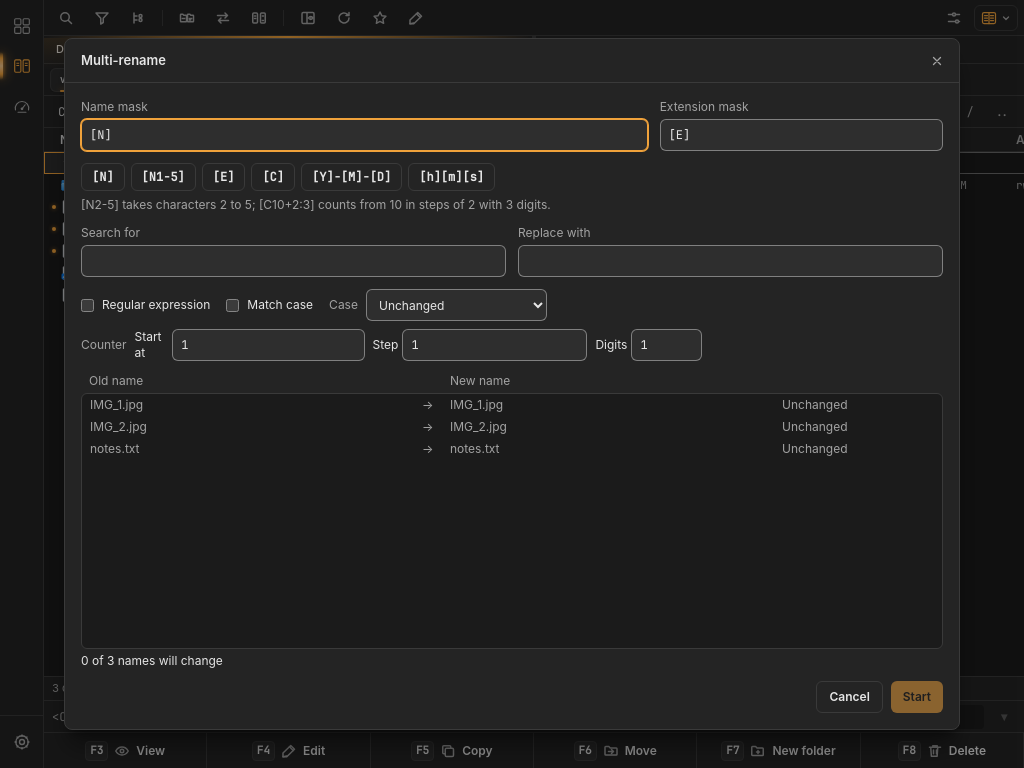
Test case: multi-rename (Ctrl+M) › says which names are not free or invalid, in words
This screenshot has width=1024, height=768.
Expected: the button with test id "path-left" reads "C:\\work", [52,100,387,124]
Step 1. Replace the text in the field labelled "Name mask" with "taken" → (364, 135), box [81,119,648,151]
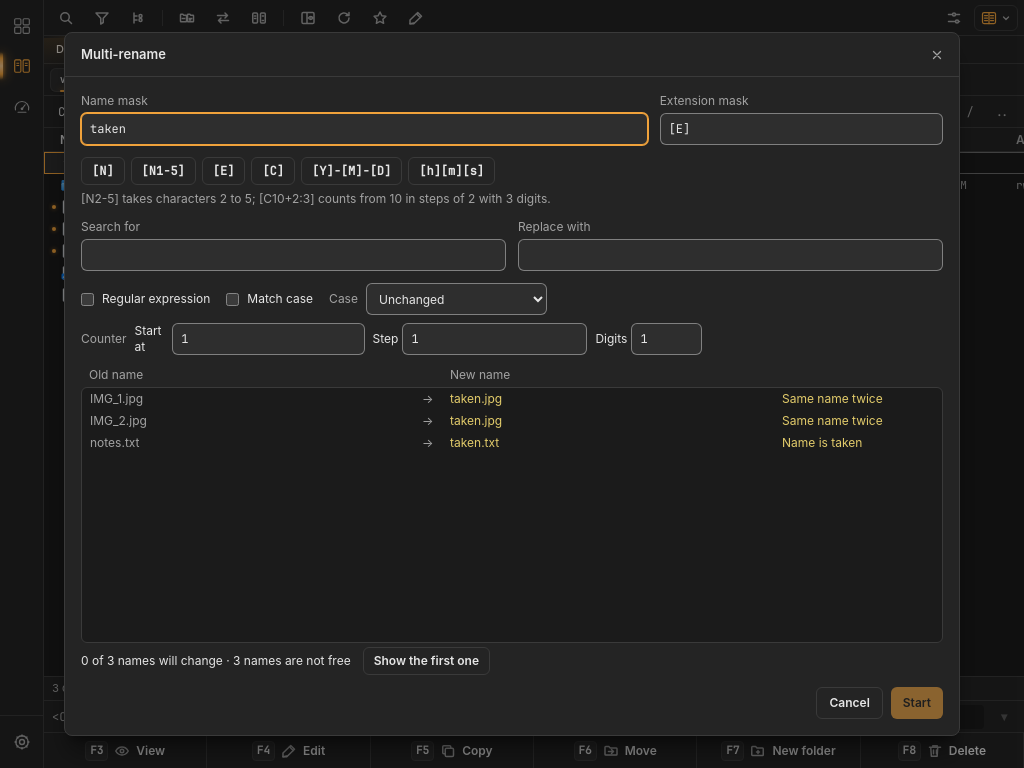
Expected: the button "Start" is disabled, [891,687,943,719]
Expected: the message with test id "rename-summary" reads "0 of 3 names will change · 3 names are not free", [81,653,351,668]
Expected: the button "Show the first one" is shown, [363,647,490,675]
Step 2. Replace the text in the field labelled "Name mask" with "a/[N]" → (364, 129), box [81,113,648,145]
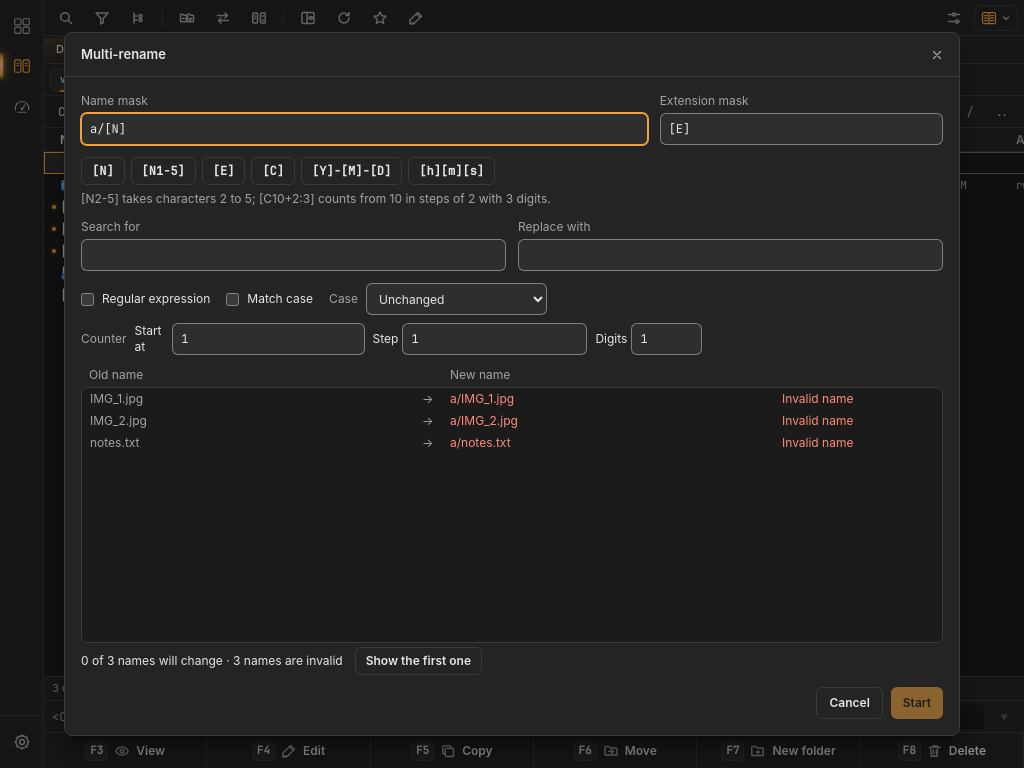
Expected: the message with test id "rename-summary" reads "0 of 3 names will change · 3 names are invalid", [81,653,343,668]
Step 3. Replace the text in the field labelled "Name mask" with "[N]" → (364, 129), box [81,113,648,145]
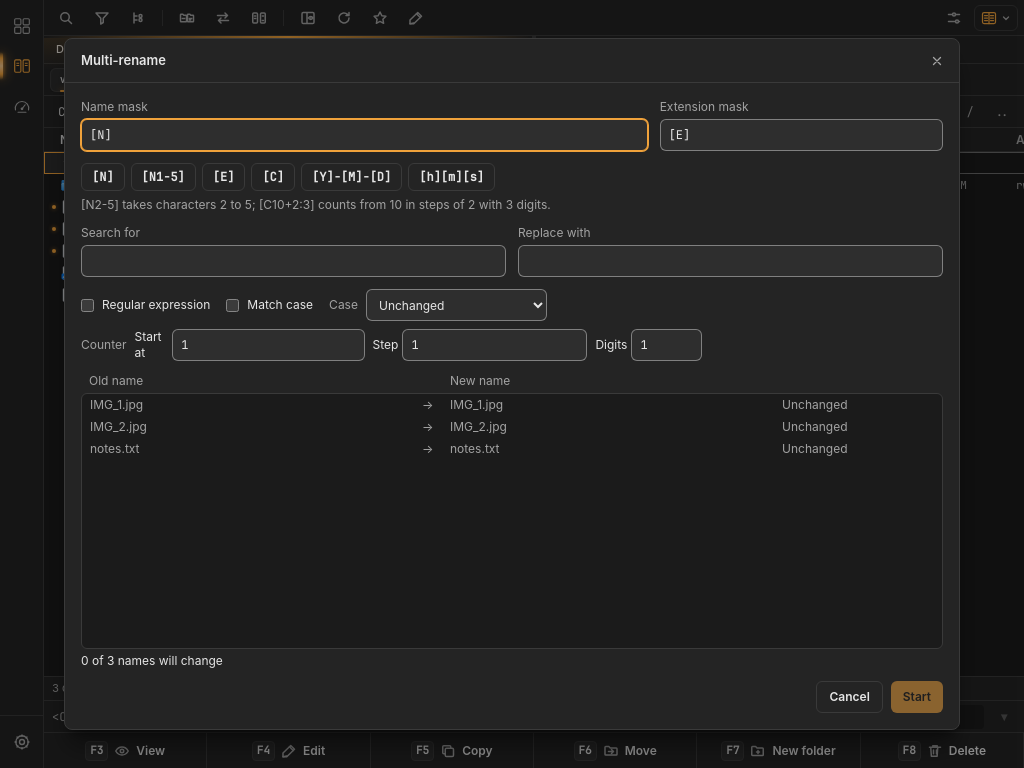
Step 4. Type "notes" into the field labelled "Search for" → (294, 261), box [81,245,506,277]
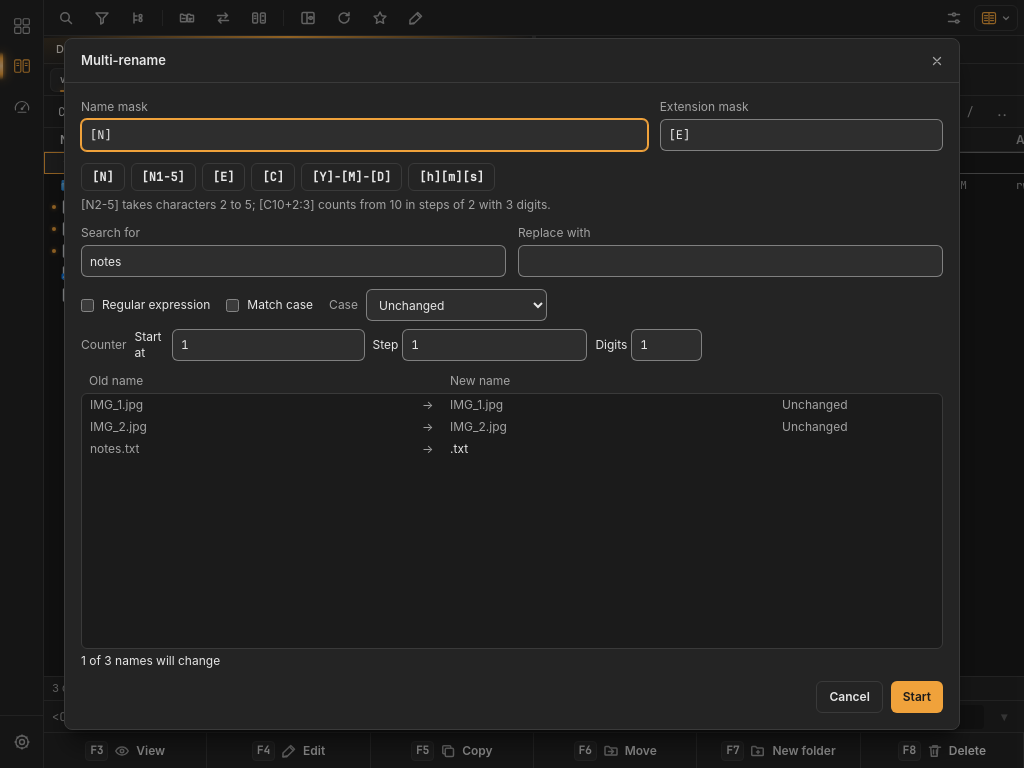
Step 5. Type "taken" into the field labelled "Replace with" → (730, 261), box [518,245,943,277]
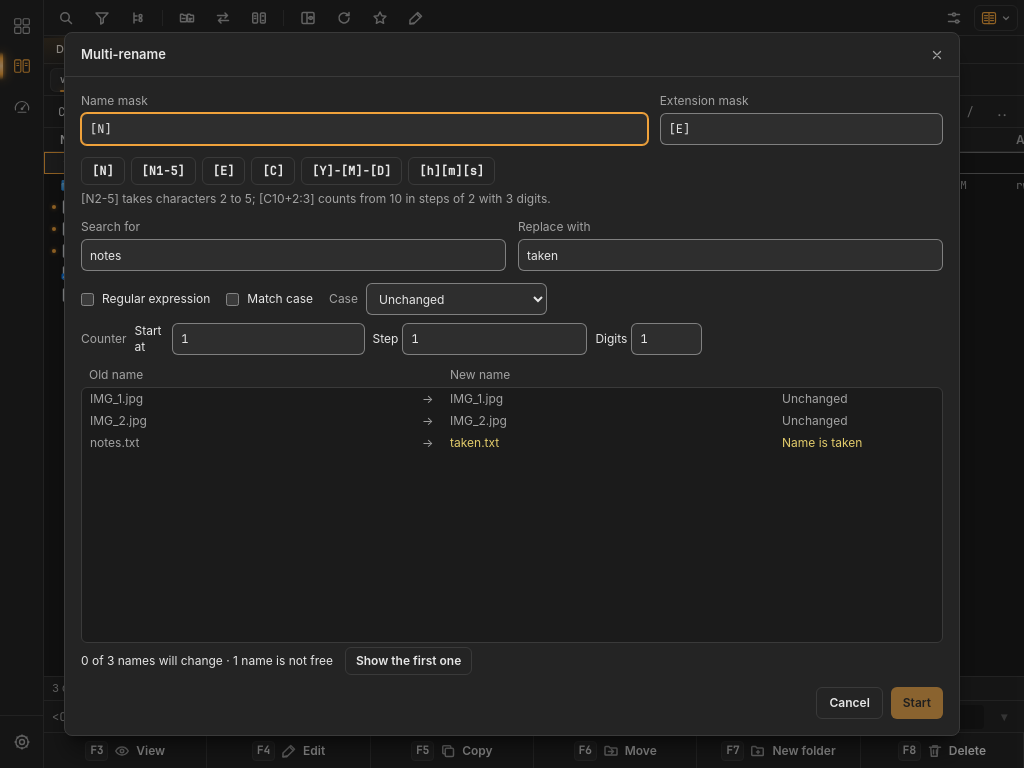
Expected: the message with test id "rename-summary" reads "0 of 3 names will change · 1 name is not free", [81,653,333,668]
Step 6. Replace the text in the field labelled "Search for" with "IMG_1" → (294, 255), box [81,239,506,271]
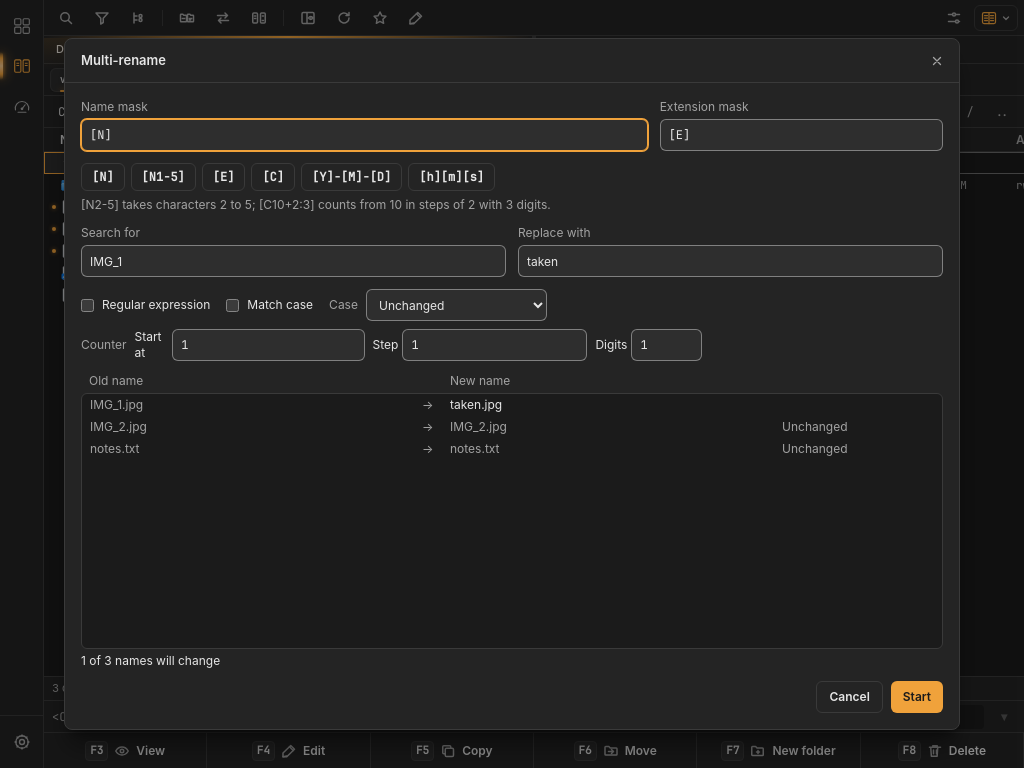
Expected: the message with test id "rename-summary" reads "1 of 3 names will change", [81,653,220,668]
Expected: the button "Start" is enabled, [891,681,943,713]
